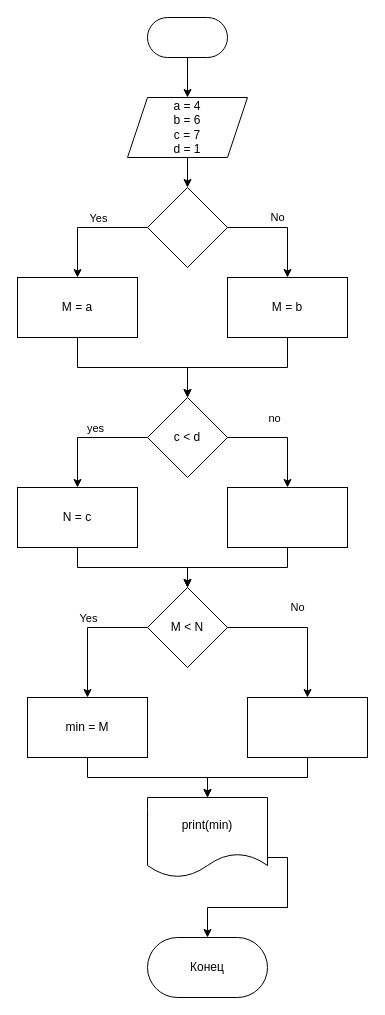
This 385x1015 diagram has some shape labels left out. The shapes that lost their labels are listed below. From the top down, each one's centre as x and y in pixels, then its label:
the point at 187,37: Начало
the point at 187,227: a < b
the point at 287,517: N = d
the point at 307,727: min = N
